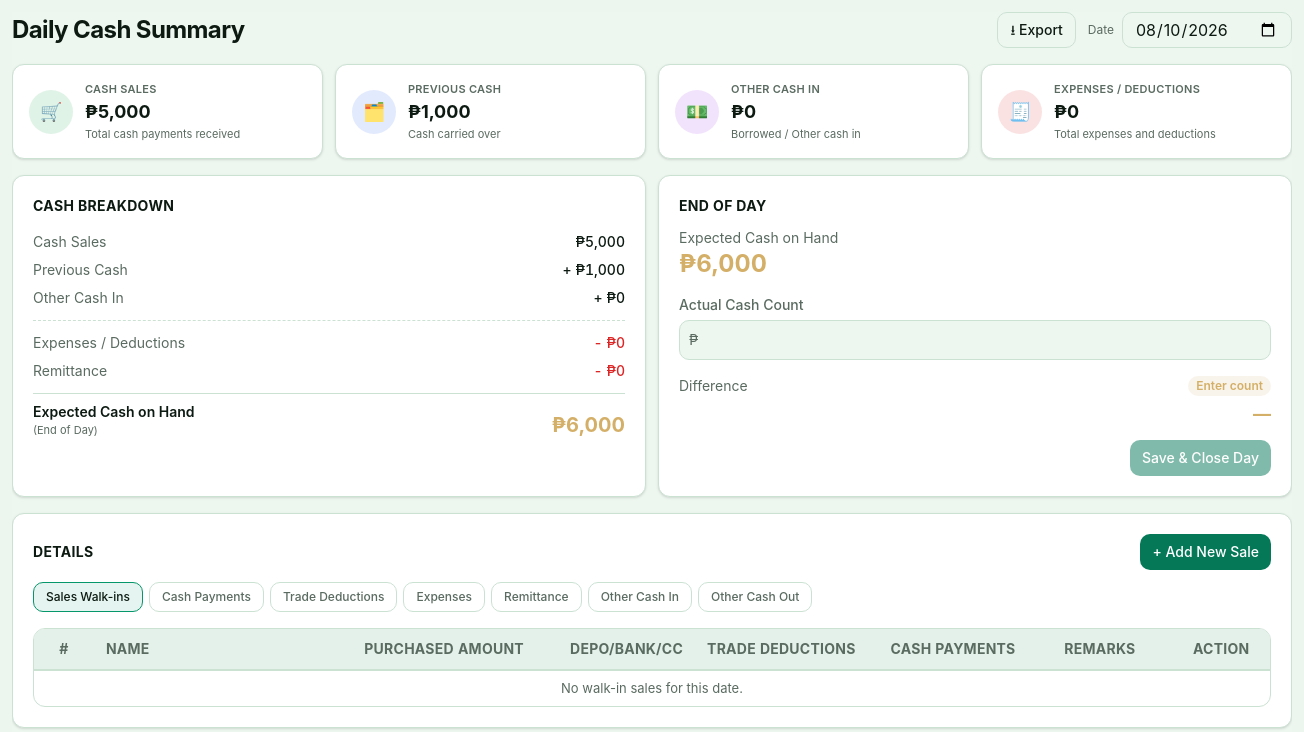
Daily Cash — one self-contained tabbed Details section › clicking a tab loads ONLY that tab in place — no navigation, no full reload
What coordinates should you click on to do the following:
click the button with test id "cash-tab-expenses"
I would click on:
 (444, 597)
Its box is [404,582,485,612].
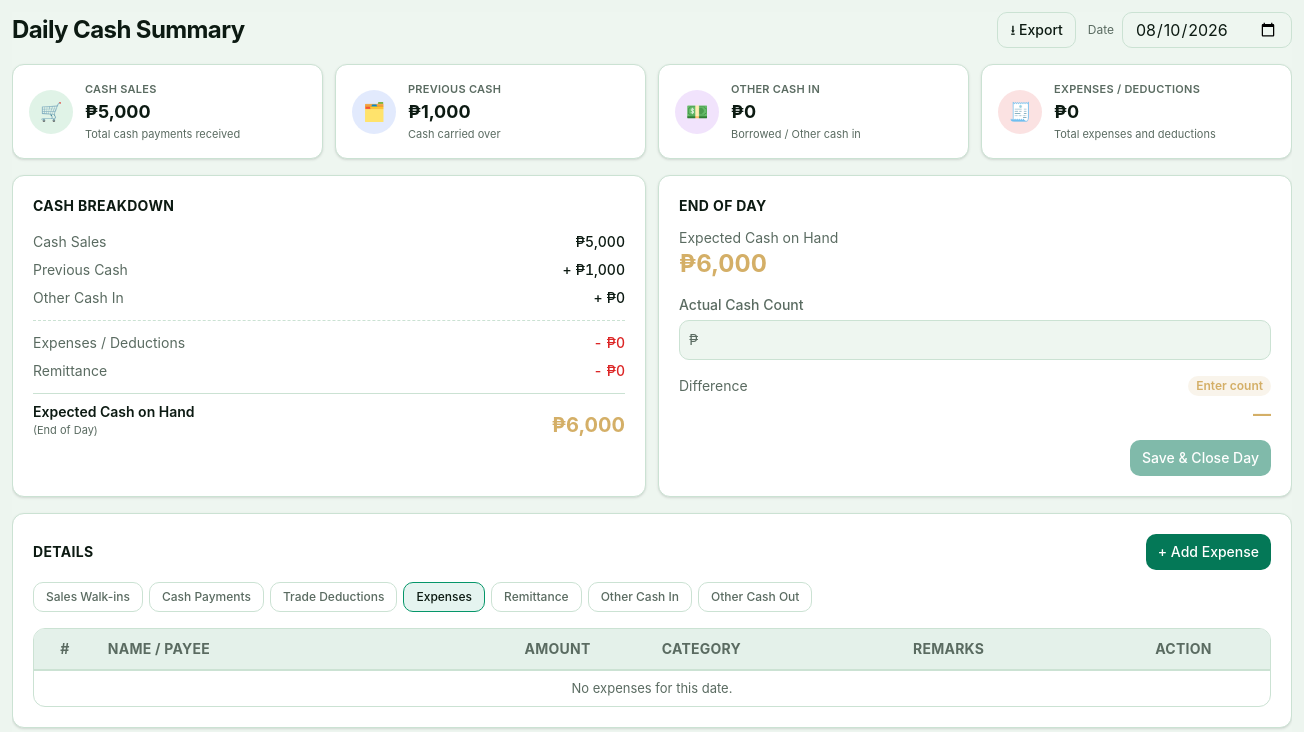
Result: the button with test id "cash-add-expense" is shown at [1146,534,1271,570]
